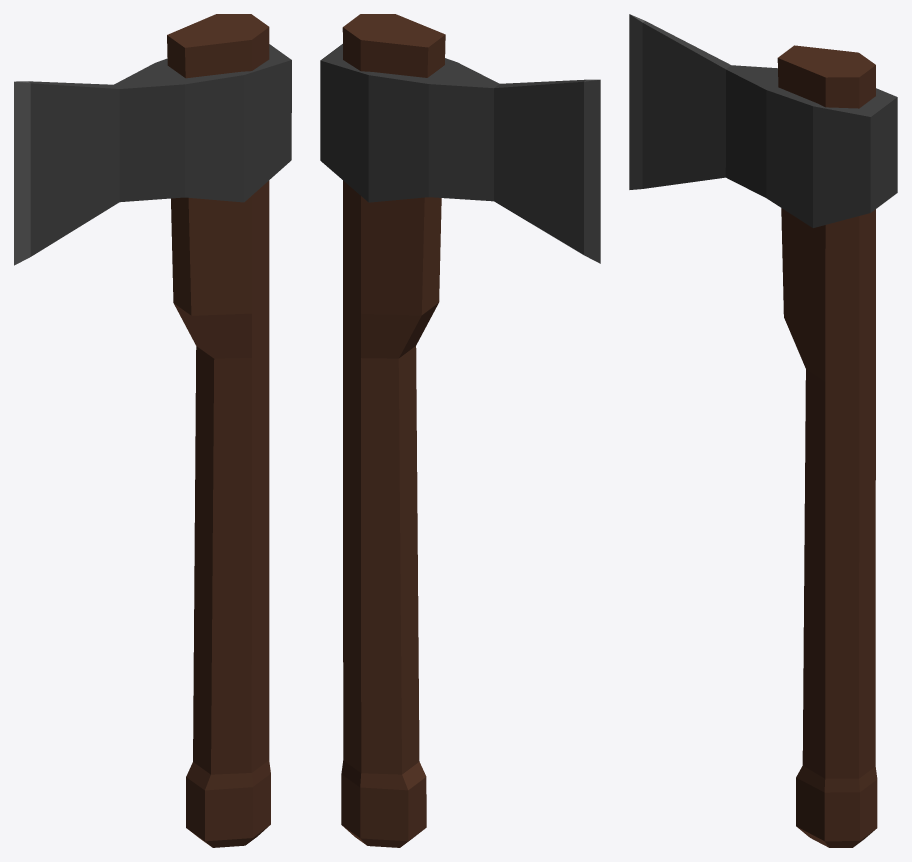
Rendered from Axe_vc.fbx.
3 views of the same model, side by side, from view 1: azimuth 30°, elevation 25°; view 2: azimuth 150°, elevation 25°; view 3: azimuth 330°, elevation 25° (orthographic). The views are drawn at different scales.
Parts seen in each view (by area): view 1: Axe_vc; view 2: Axe_vc; view 3: Axe_vc.
Boxes of the visible parts, bbox=[...] form: Axe_vc: bbox=[14, 14, 291, 847]; Axe_vc: bbox=[320, 14, 600, 847]; Axe_vc: bbox=[629, 14, 897, 847].
Size of the model in its own units: 12.57 by 36.72 by 3.33.
